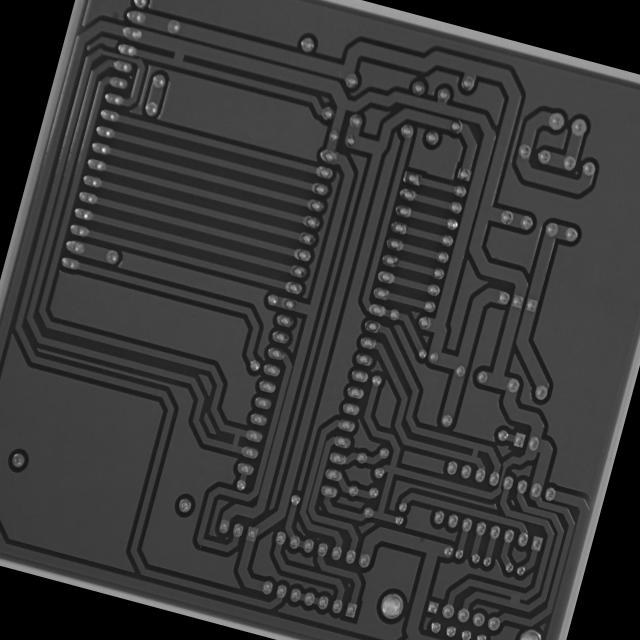short: (160, 38, 194, 72), (499, 585, 532, 614), (220, 423, 248, 456), (461, 438, 488, 465)
